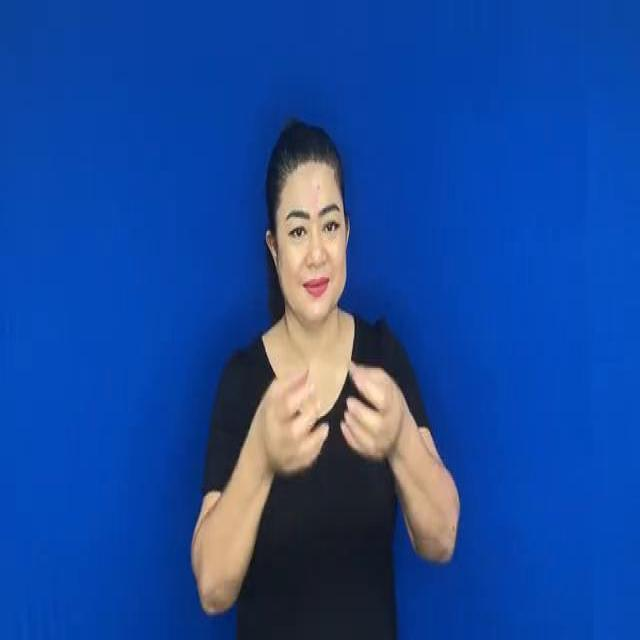egg: (247, 347, 410, 487)
